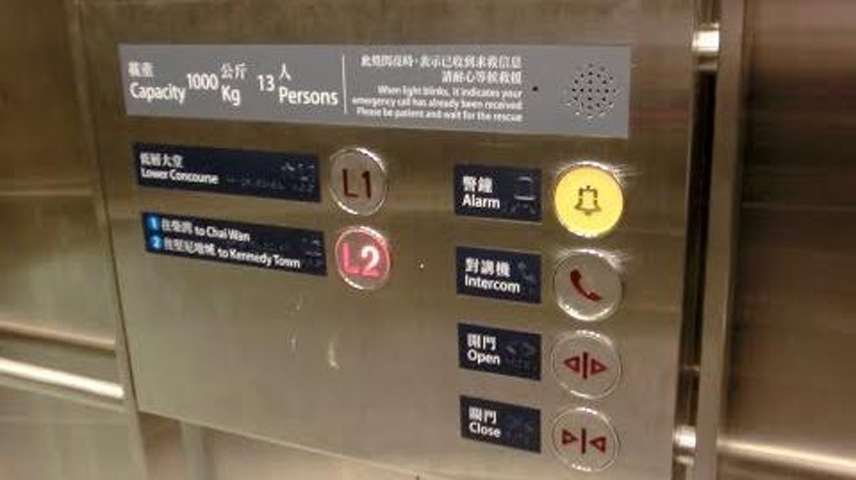L1: (326, 146, 390, 216)
L2: (332, 225, 392, 292)
alarm: (547, 160, 625, 239)
call: (551, 250, 624, 321)
close: (547, 406, 620, 472)
open: (549, 330, 622, 400)
